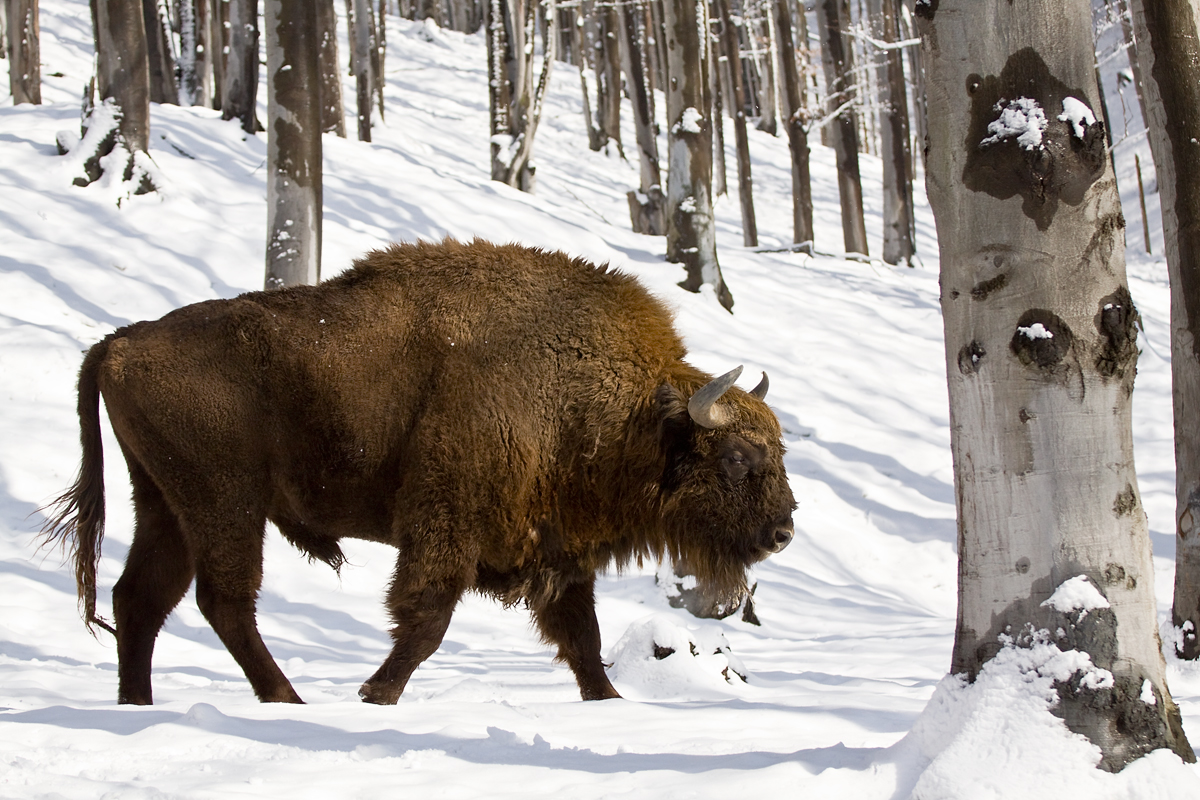zubr: (30, 190, 830, 715)
